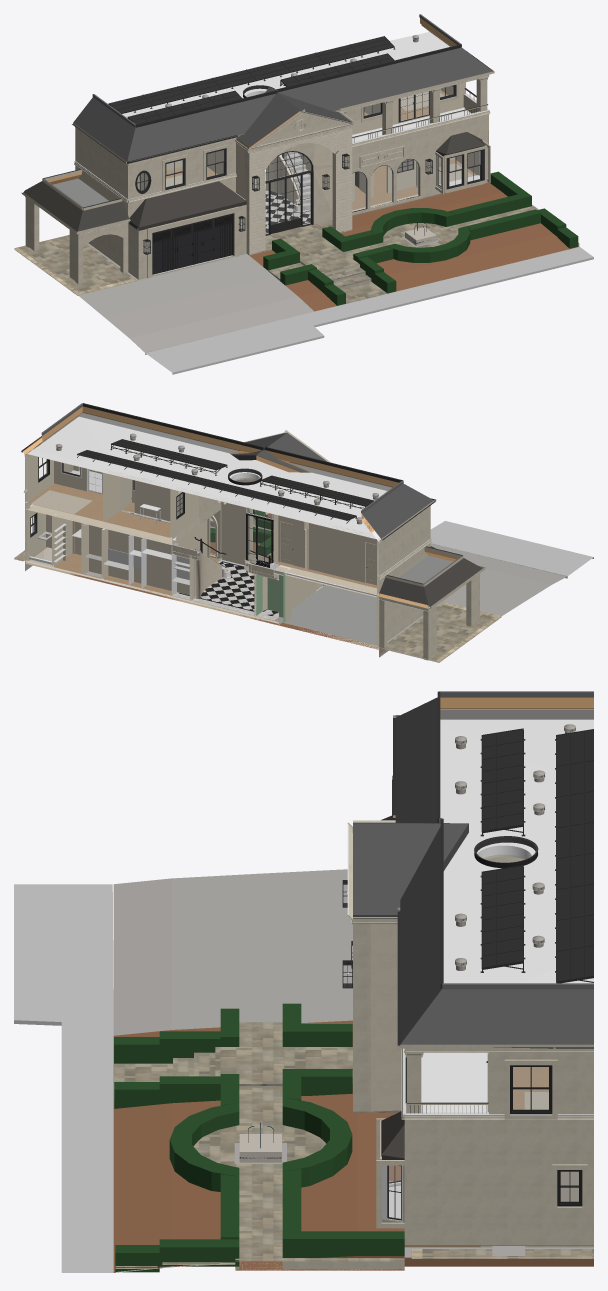
File: elevation-front-fa1e96bc5813.glb
3 views of the same model, one above another, from view 1: azimuth 30°, elevation 25°; view 2: azimuth 150°, elevation 25°; view 3: azimuth 270°, elevation 25° (orthographic). The views are drawn at different scales.
Parts seen in each view (by area): view 1: elevation-front-8ae50a6395ceb8a4, elevation-front-b5dfe7249a3eb059, elevation-front-aee2d046b0172b1e, elevation-front-e33d7b378dc851e2, elevation-front-72c8ba8a1aabe0d2, elevation-front-25c3ff3929e46046, elevation-front-0b9d5d1cd0b2c60f, elevation-front-27d577fbd7f2ff4b, elevation-front-2f311b438f02a7c5, elevation-front-f9d31319fa3bf46f, elevation-front-a9e726e5451ff895, elevation-front-698abdfdc6fb970d (+50 smaller); view 2: elevation-front-d56ee2a9d54b1fc2, elevation-front-2575515a05775d9e, elevation-front-8ae50a6395ceb8a4, elevation-front-b5dfe7249a3eb059, elevation-front-bf54ea866a3565d8, elevation-front-eb02897c2e79e2b1, elevation-front-27d577fbd7f2ff4b, elevation-front-0b9d5d1cd0b2c60f, elevation-front-19647d6da46c2b80, elevation-front-0cae3eb2f2d52fad, elevation-front-312b4ac1be39223d, elevation-front-9d91b47435c6fb33 (+51 smaller); view 3: elevation-front-8ae50a6395ceb8a4, elevation-front-b5dfe7249a3eb059, elevation-front-aee2d046b0172b1e, elevation-front-d56ee2a9d54b1fc2, elevation-front-72c8ba8a1aabe0d2, elevation-front-a75a0c9c223328ee, elevation-front-0b9d5d1cd0b2c60f, elevation-front-319244b3406409d9, elevation-front-592bd9af2ed71797, elevation-front-13e0fa11ee5899e1, elevation-front-e33d7b378dc851e2, elevation-front-3857a3fa22eeeb6b (+42 smaller).
Part boxes in pixels (x1,y1,x2,y2): elevation-front-8ae50a6395ceb8a4: [15, 243, 313, 354]; elevation-front-b5dfe7249a3eb059: [145, 247, 593, 374]; elevation-front-aee2d046b0172b1e: [249, 183, 579, 311]; elevation-front-e33d7b378dc851e2: [278, 47, 492, 110]; elevation-front-72c8ba8a1aabe0d2: [254, 205, 578, 303]; elevation-front-25c3ff3929e46046: [127, 94, 275, 161]; elevation-front-0b9d5d1cd0b2c60f: [108, 36, 395, 113]; elevation-front-27d577fbd7f2ff4b: [14, 235, 136, 295]; elevation-front-2f311b438f02a7c5: [152, 213, 233, 274]; elevation-front-f9d31319fa3bf46f: [257, 125, 343, 252]; elevation-front-a9e726e5451ff895: [138, 181, 246, 230]; elevation-front-698abdfdc6fb970d: [265, 171, 313, 235]; elevation-front-d56ee2a9d54b1fc2: [32, 416, 387, 533]; elevation-front-2575515a05775d9e: [25, 483, 378, 595]; elevation-front-8ae50a6395ceb8a4: [14, 543, 567, 661]; elevation-front-b5dfe7249a3eb059: [430, 521, 593, 577]; elevation-front-bf54ea866a3565d8: [276, 585, 378, 645]; elevation-front-eb02897c2e79e2b1: [278, 515, 376, 582]; elevation-front-27d577fbd7f2ff4b: [381, 602, 501, 662]; elevation-front-0b9d5d1cd0b2c60f: [77, 450, 356, 523]; elevation-front-19647d6da46c2b80: [108, 529, 172, 590]; elevation-front-0cae3eb2f2d52fad: [362, 483, 433, 538]; elevation-front-312b4ac1be39223d: [378, 506, 430, 576]; elevation-front-9d91b47435c6fb33: [27, 451, 379, 539]; elevation-front-8ae50a6395ceb8a4: [113, 869, 593, 1257]; elevation-front-b5dfe7249a3eb059: [14, 884, 113, 1272]; elevation-front-aee2d046b0172b1e: [113, 1020, 593, 1272]; elevation-front-d56ee2a9d54b1fc2: [440, 719, 593, 983]; elevation-front-72c8ba8a1aabe0d2: [114, 1022, 404, 1268]; elevation-front-a75a0c9c223328ee: [400, 989, 593, 1044]; elevation-front-0b9d5d1cd0b2c60f: [555, 729, 593, 983]; elevation-front-319244b3406409d9: [485, 1137, 583, 1244]; elevation-front-592bd9af2ed71797: [404, 1137, 485, 1244]; elevation-front-13e0fa11ee5899e1: [353, 823, 468, 916]; elevation-front-e33d7b378dc851e2: [400, 827, 441, 1043]; elevation-front-3857a3fa22eeeb6b: [371, 924, 401, 1111].
Bounding box in the file's own units: 26.39 × 8.45 × 16.63.
Materials: 68 (16 with a texture image).
